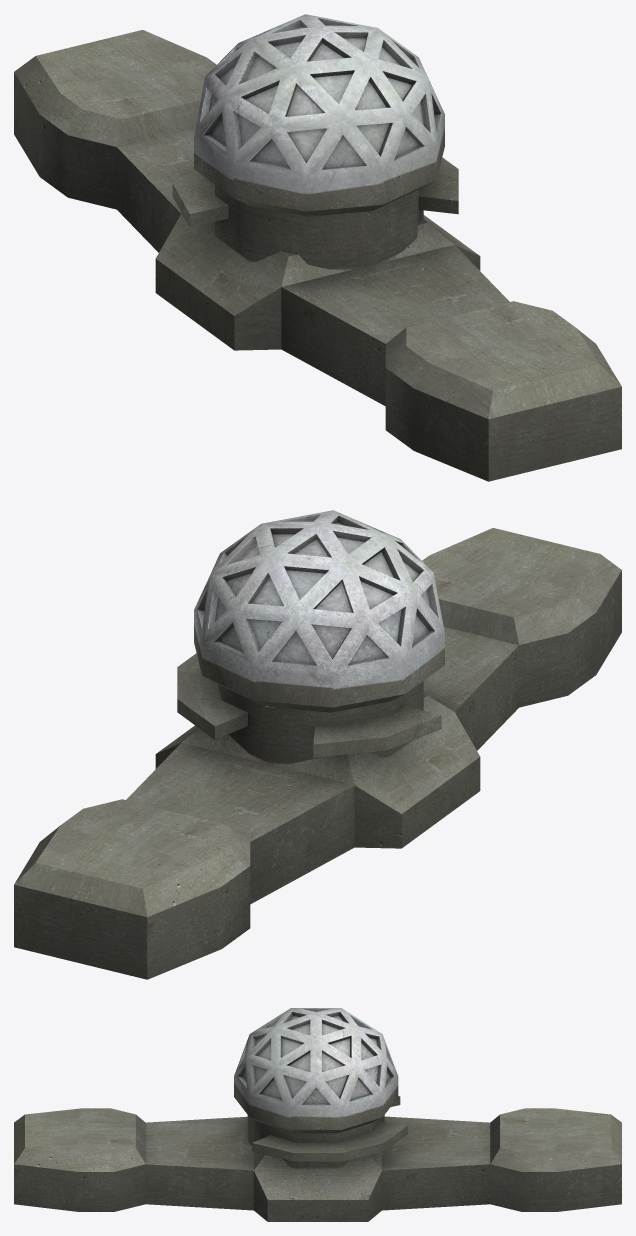
3 views of the same model, one above another, from view 1: azimuth 30°, elevation 25°; view 2: azimuth 150°, elevation 25°; view 3: azimuth 270°, elevation 25° (orthographic). The views are drawn at different scales.
Parts seen in each view (by area): view 1: Anti-Air-station_Circle.001_Anti-Air-station_Circle.002; view 2: Anti-Air-station_Circle.001_Anti-Air-station_Circle.002; view 3: Anti-Air-station_Circle.001_Anti-Air-station_Circle.002.
Part boxes in pixels (bbox=[...]): Anti-Air-station_Circle.001_Anti-Air-station_Circle.002: bbox=[14, 14, 621, 481]; Anti-Air-station_Circle.001_Anti-Air-station_Circle.002: bbox=[14, 510, 621, 979]; Anti-Air-station_Circle.001_Anti-Air-station_Circle.002: bbox=[14, 1008, 621, 1221].
Bounding box in the file's own units: 8.72 × 8.88 × 28.78.
Materials: 1 (1 with a texture image).
